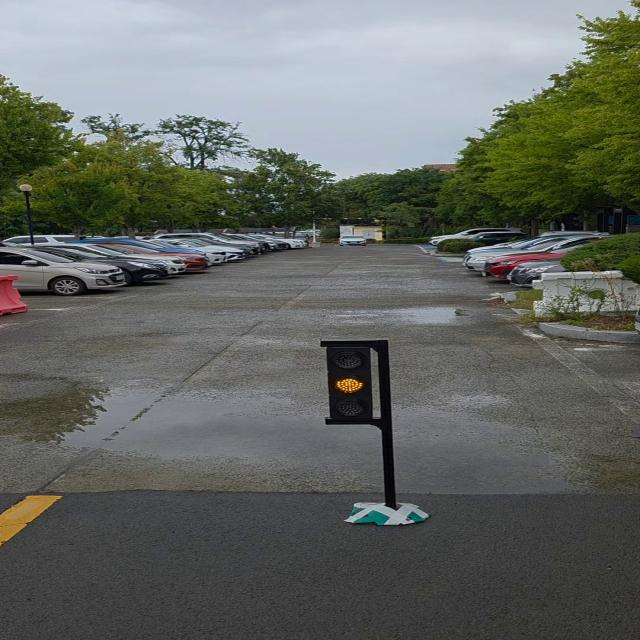yellow: (328, 347, 382, 425)
